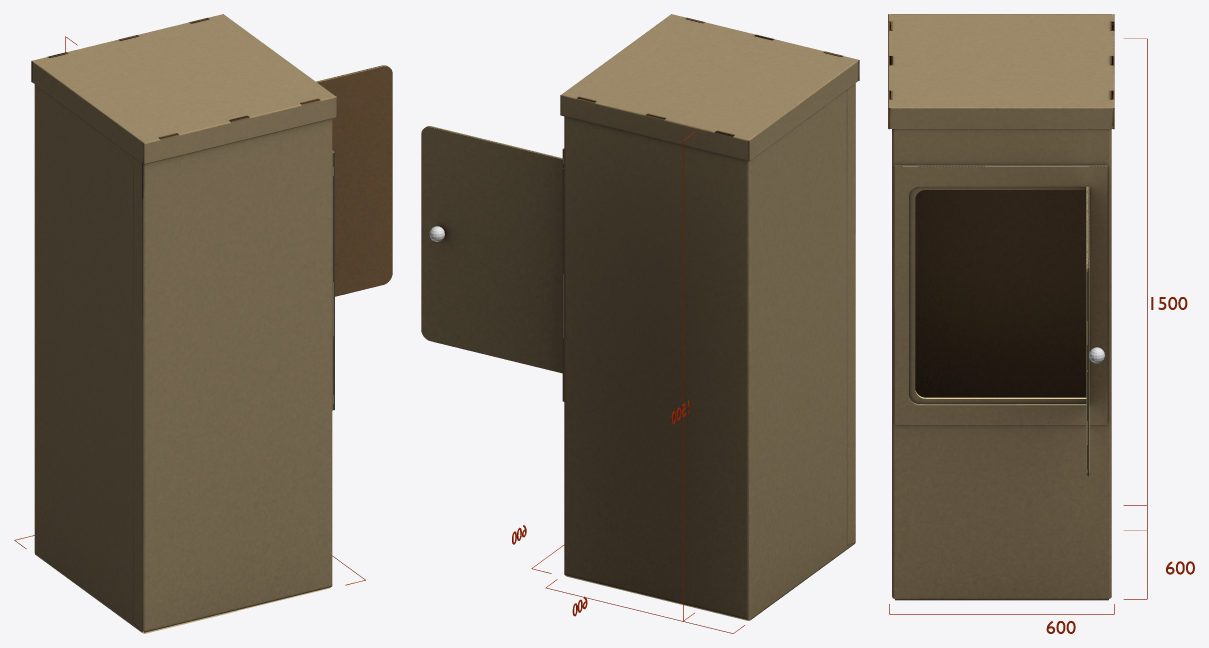
Rendered from donaciones.glb.
The picture shows the model from 3 angles, left to right: view 1: azimuth 30°, elevation 25°; view 2: azimuth 150°, elevation 25°; view 3: azimuth 270°, elevation 25°; orthographic projection. The views are drawn at different scales.
Visible parts, largest first — view 1: CAJA_DONACIONES---para_artios_ARD-node.001; view 2: CAJA_DONACIONES---para_artios_ARD-node.001; view 3: CAJA_DONACIONES---para_artios_ARD-node.001, Plano.003.
Boxes of the visible parts, box(x1,y1,x2,y2) form: CAJA_DONACIONES---para_artios_ARD-node.001: box(31, 14, 392, 633); CAJA_DONACIONES---para_artios_ARD-node.001: box(421, 14, 859, 620); CAJA_DONACIONES---para_artios_ARD-node.001: box(888, 14, 1114, 600); Plano.003: box(1124, 38, 1147, 530).
Bounding box in the file's own units: 1.11 × 1.51 × 0.8492.
Materials: 5 (3 with a texture image).
